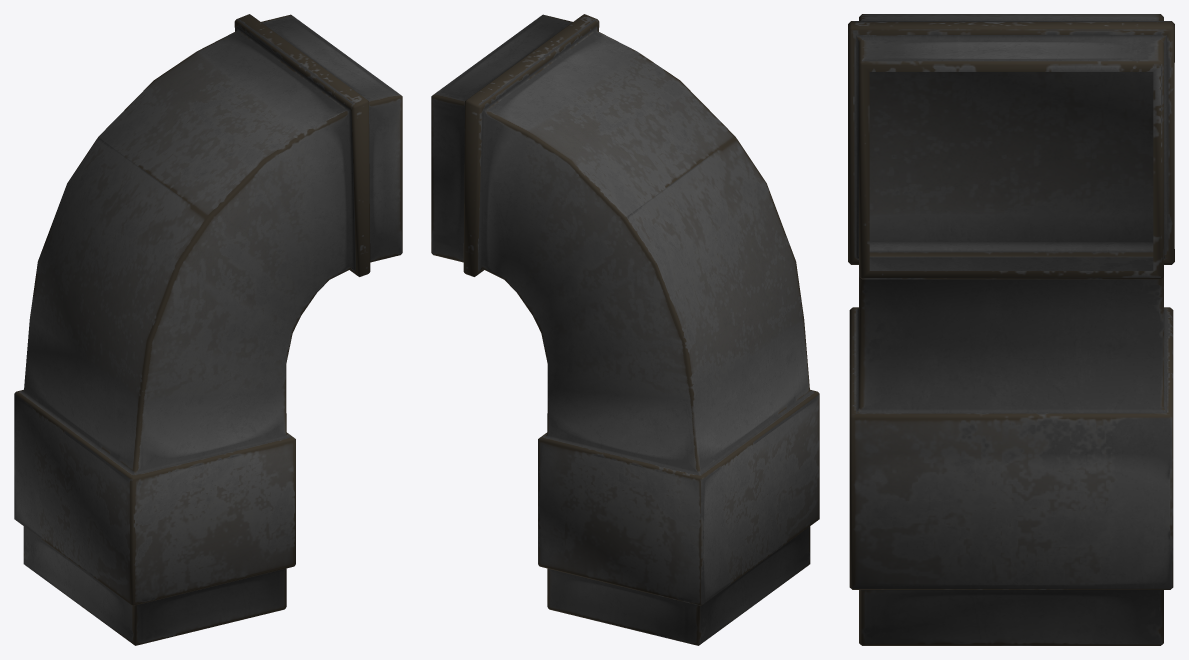
The model's file is shaft.gltf.
3 renders of one model, left to right at view 1: azimuth 30°, elevation 25°; view 2: azimuth 150°, elevation 25°; view 3: azimuth 270°, elevation 25°, orthographic. The views are drawn at different scales.
Visible parts, largest first — view 1: shaft; view 2: shaft; view 3: shaft.
Boxes of the visible parts, <box> form: shaft: <box>14,14,402,645</box>; shaft: <box>431,14,819,645</box>; shaft: <box>848,14,1174,645</box>.
Size of the model in its own units: 1.42 by 2.42 by 1.07.
1 material, 1 textured.
